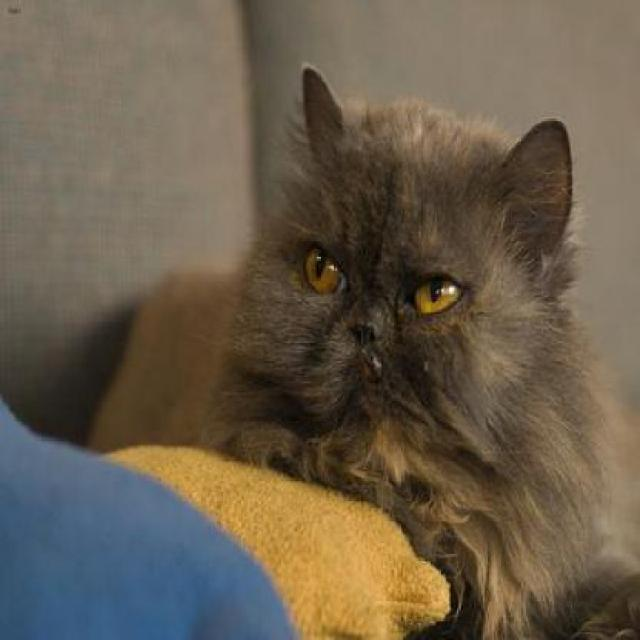cat: (234, 67, 629, 615)
